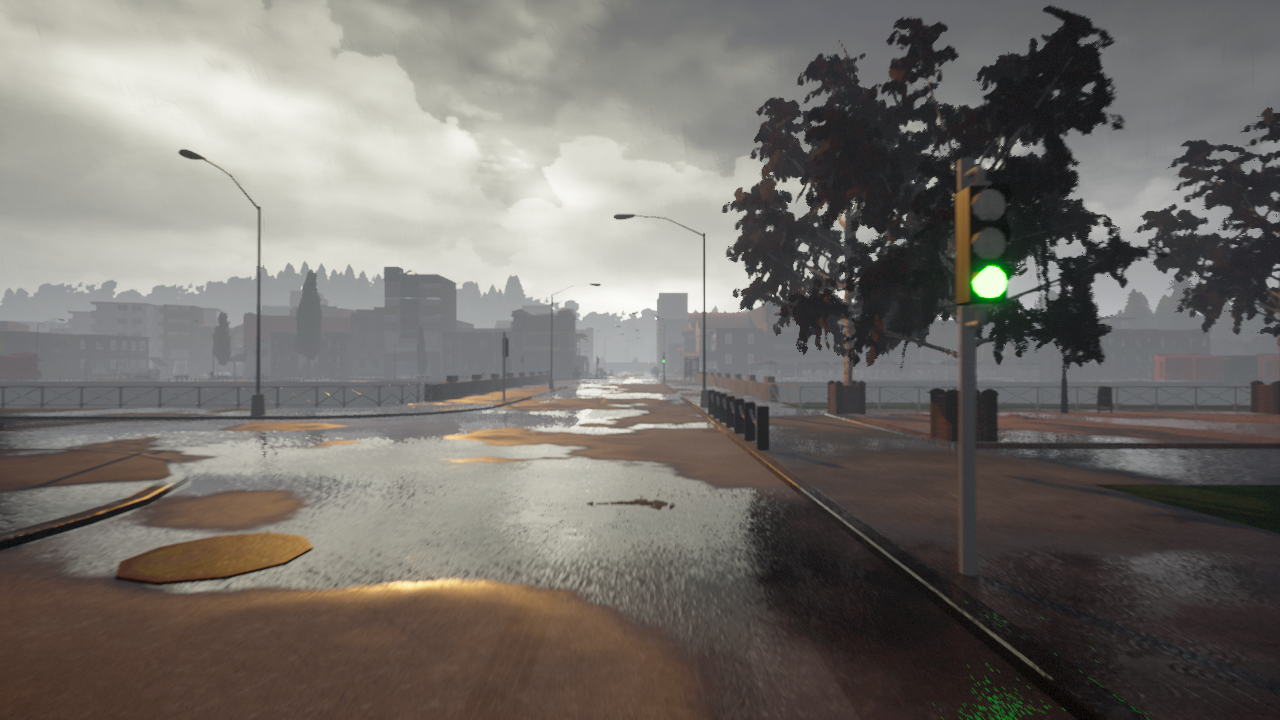green: (952, 180, 1012, 305)
